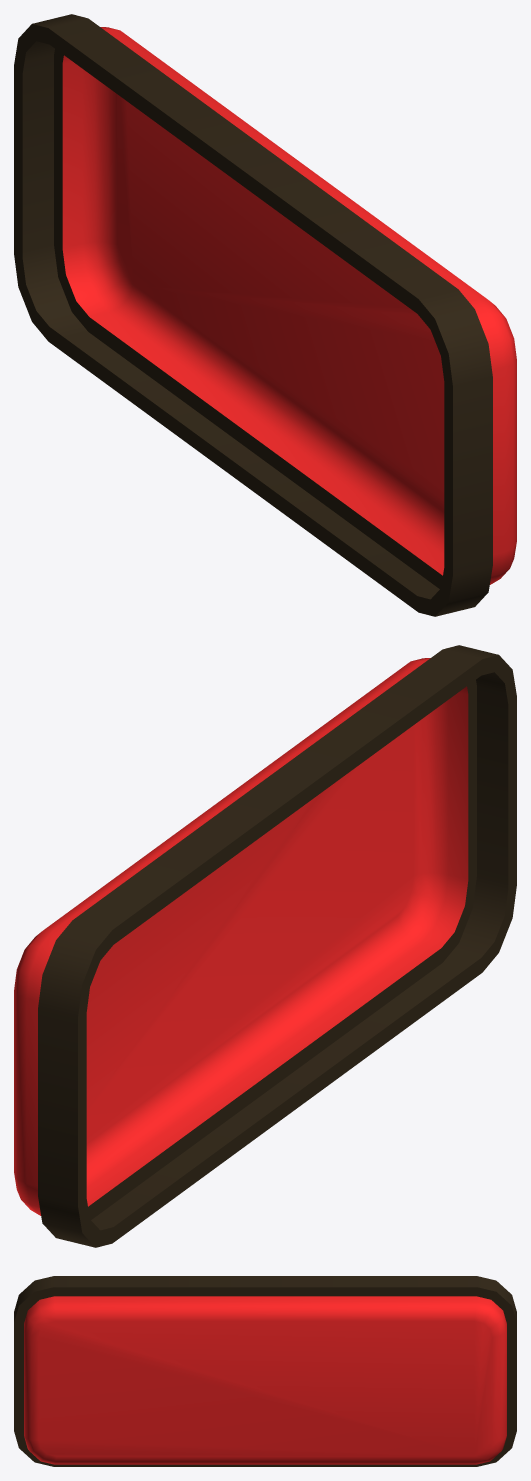
The model's file is Button_Red_On.fbx.
3 renders of one model, top to bottom at view 1: azimuth 30°, elevation 25°; view 2: azimuth 150°, elevation 25°; view 3: azimuth 270°, elevation 25°, orthographic. The views are drawn at different scales.
Visible parts, largest first — view 1: Button_Red_On; view 2: Button_Red_On; view 3: Button_Red_On.
Part boxes in pixels (x1,y1,x2,y2): Button_Red_On: (14, 14, 516, 616); Button_Red_On: (14, 645, 516, 1247); Button_Red_On: (14, 1276, 516, 1466).
Size of the model in its own units: 0.9302 by 3.4 by 8.63.
Materials: 1 (1 with a texture image).
